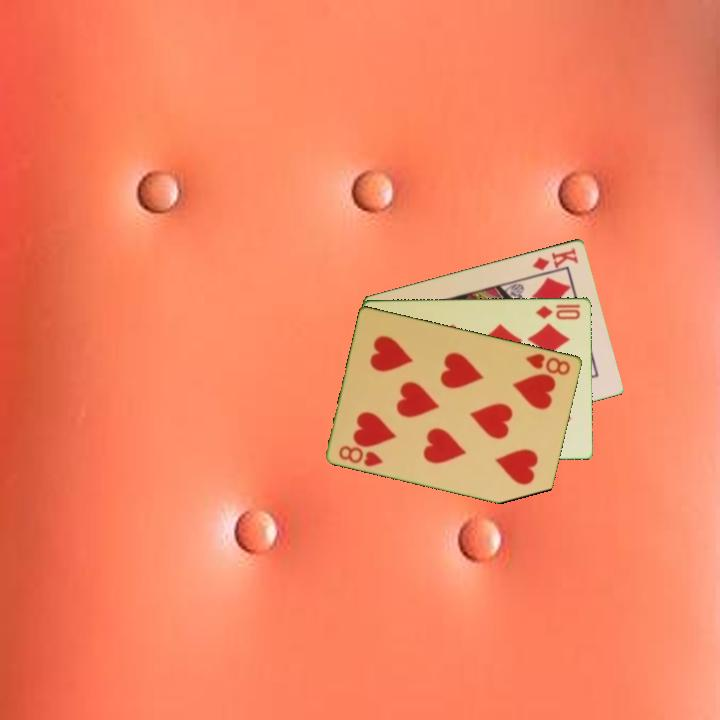10d: (533, 301, 583, 322)
8h: (522, 350, 574, 378), (335, 442, 386, 469)
Kd: (529, 244, 581, 273)
